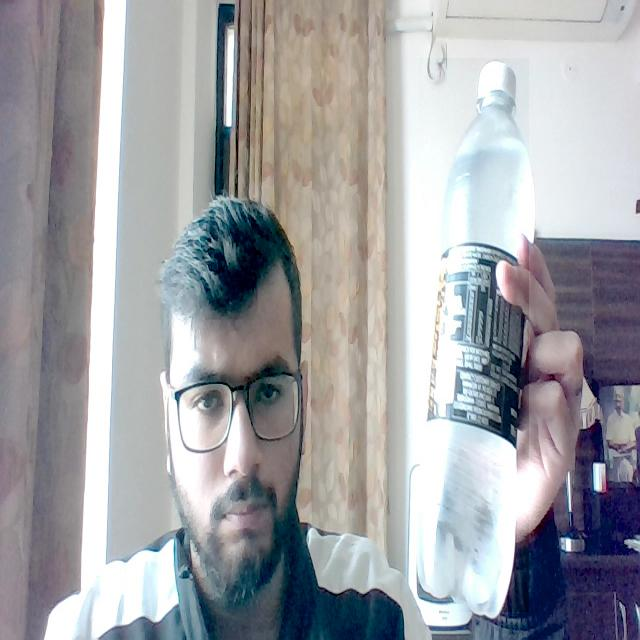full-bottle: (419, 58, 529, 612)
